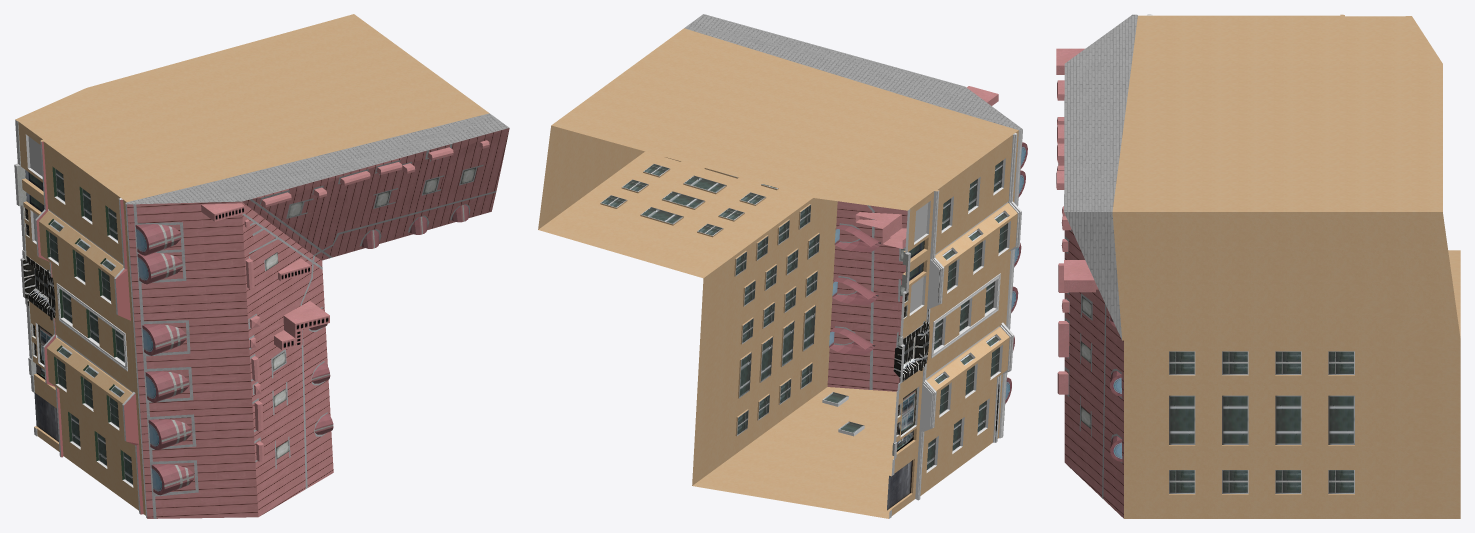
Rendered from Uus_22-1.obj.
3 renders of one model, left to right at view 1: azimuth 30°, elevation 25°; view 2: azimuth 150°, elevation 25°; view 3: azimuth 270°, elevation 25°, orthographic. The views are drawn at different scales.
Visible parts, largest first — view 1: Uus_22_1; view 2: Uus_22_1; view 3: Uus_22_1.
Boxes of the visible parts, <box> form: Uus_22_1: <box>14,14,509,518</box>; Uus_22_1: <box>538,14,1027,518</box>; Uus_22_1: <box>1056,14,1460,518</box>.
Bounding box in the file's own units: 28.61 × 24.75 × 22.52.
